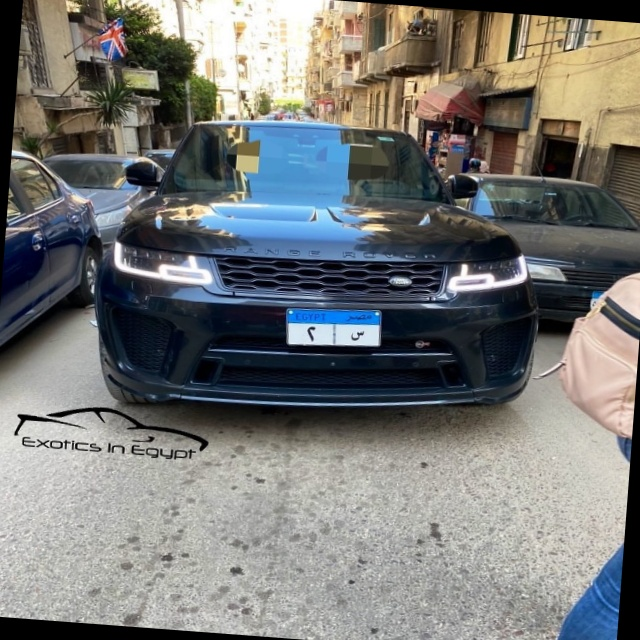License Plate: (283, 303, 386, 353)
